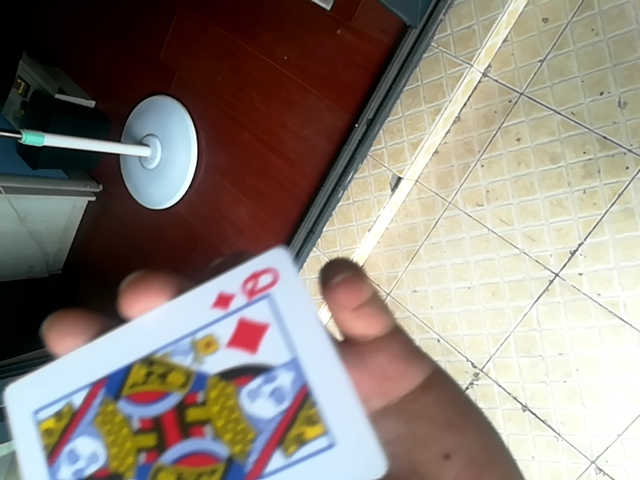fk q: (3, 255, 386, 478)
